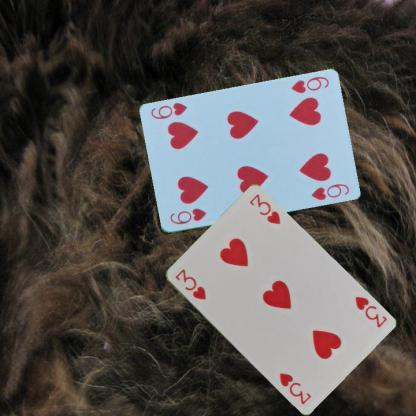3h: (352, 294, 388, 329), (172, 266, 206, 301)
6h: (288, 74, 330, 95), (167, 206, 207, 226)
